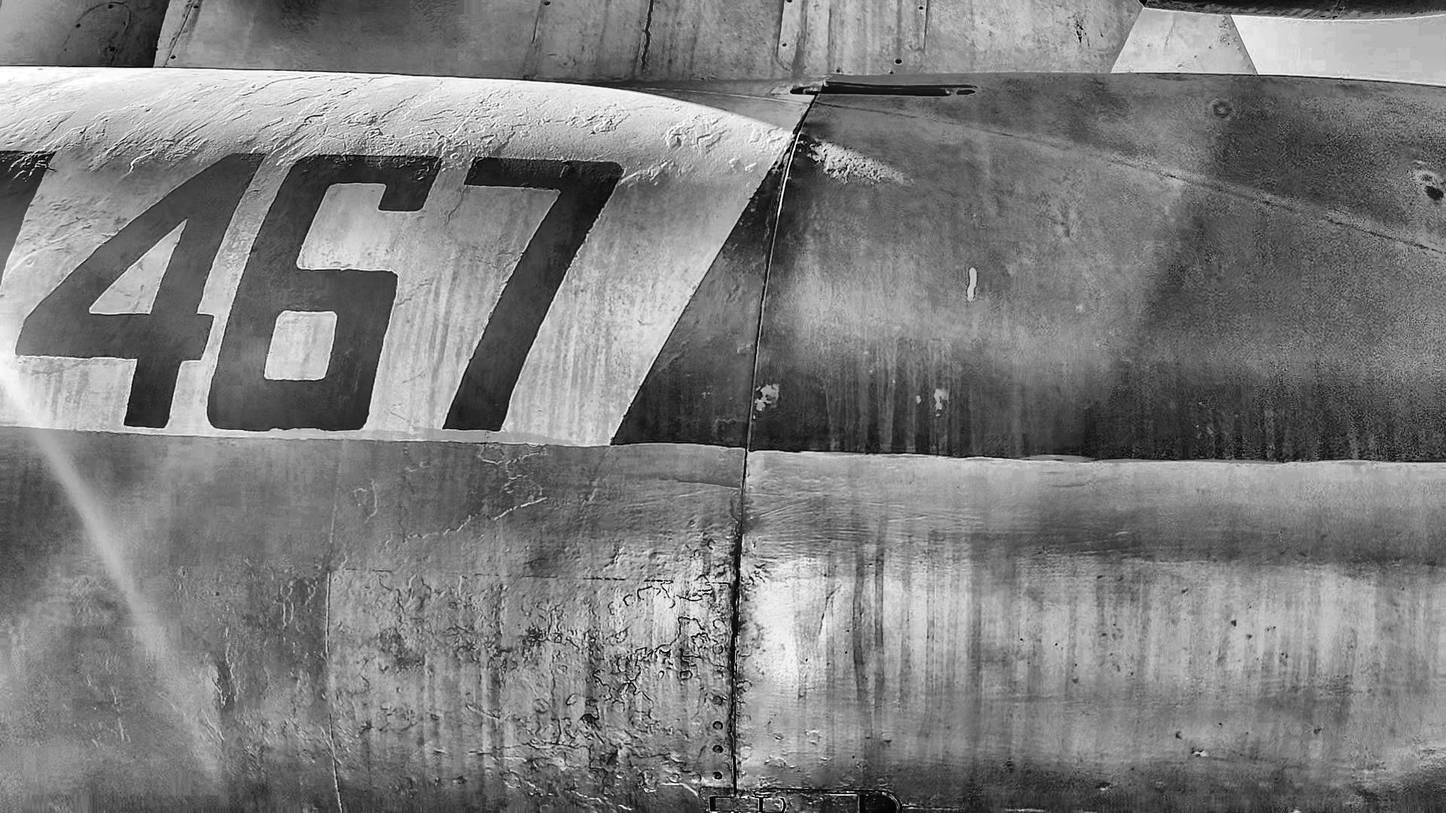crack: (640, 0, 655, 71)
dent: (210, 663, 233, 705)
missing-head: (919, 5, 925, 11), (888, 70, 894, 75), (782, 43, 788, 48), (836, 69, 841, 73), (787, 0, 793, 3)
paint-peel-off: (755, 384, 779, 412), (935, 389, 948, 417), (581, 714, 600, 725), (1075, 21, 1085, 30), (1076, 31, 1082, 43)
scratch: (678, 480, 741, 489)
